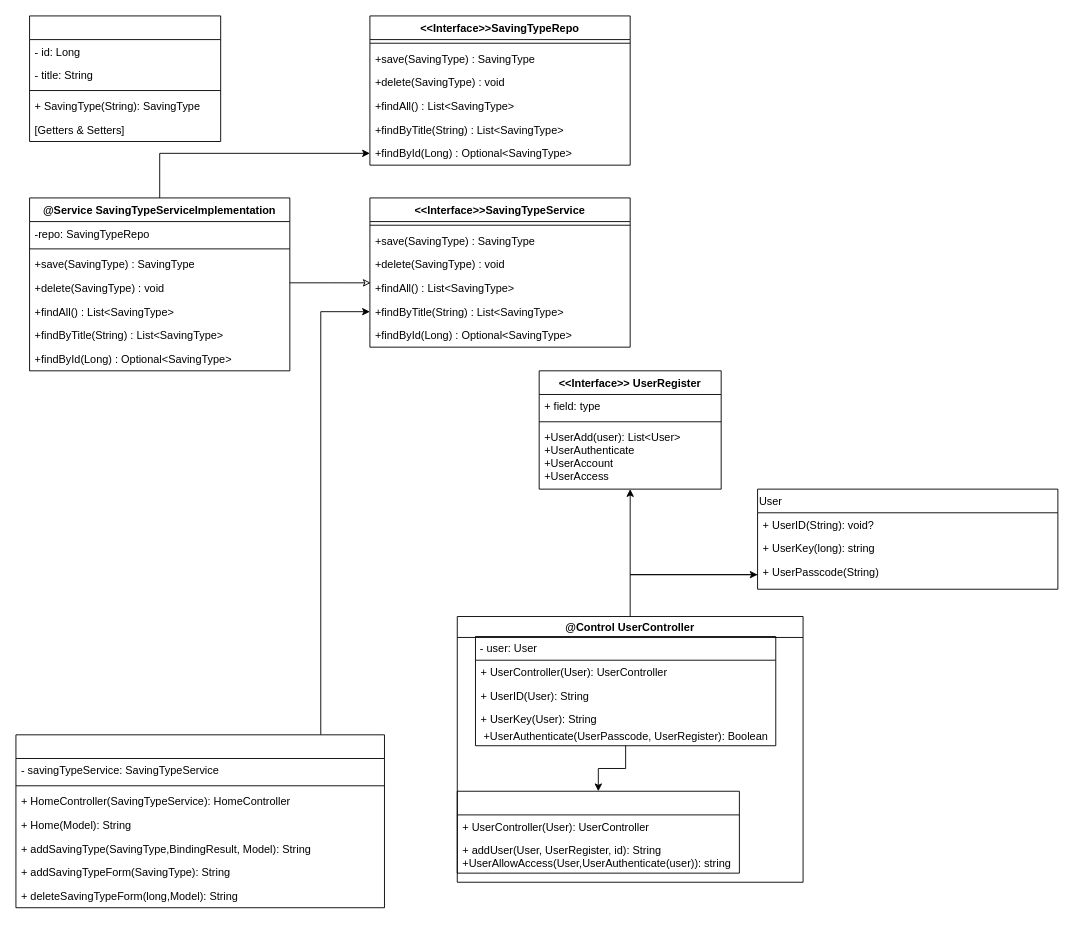
This 1074x926 diagram has some shape labels left out. The shapes that lost their labels are listed below. From the top down, each one's box as (x1, y1, x2, y2) in pixels, then its label:
(29, 15, 221, 142): @EntitySavingType
(15, 734, 384, 908): @Control HomeController
(456, 790, 739, 873): - userRegister: UserRegister
